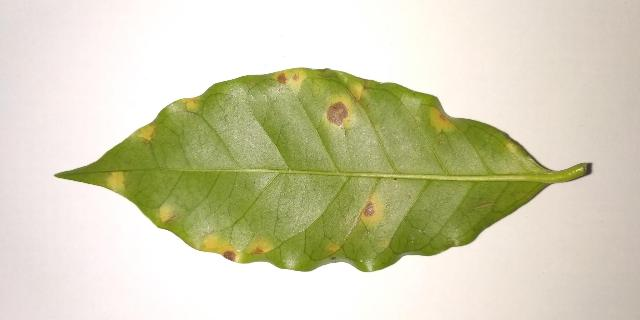miner: (325, 82, 366, 127), (201, 234, 242, 263), (358, 192, 383, 225), (273, 68, 307, 88), (431, 108, 453, 130), (249, 238, 271, 255), (108, 172, 125, 191), (136, 124, 155, 141), (159, 206, 174, 223), (182, 97, 200, 110)
